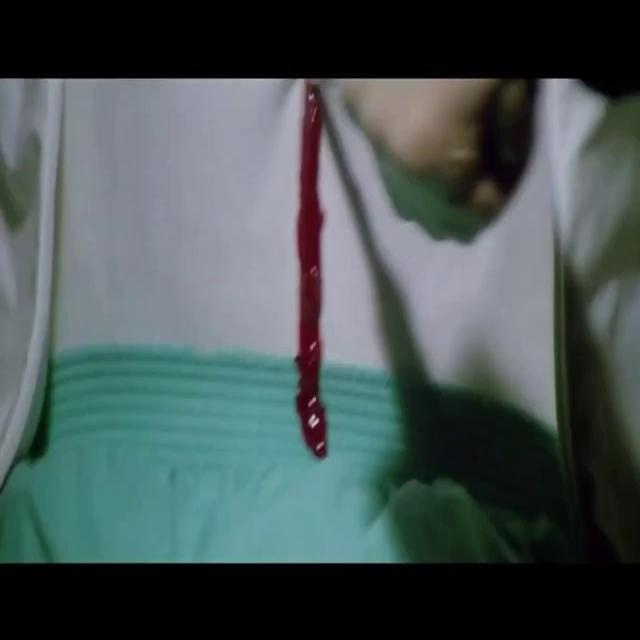flood: (296, 86, 332, 467)
